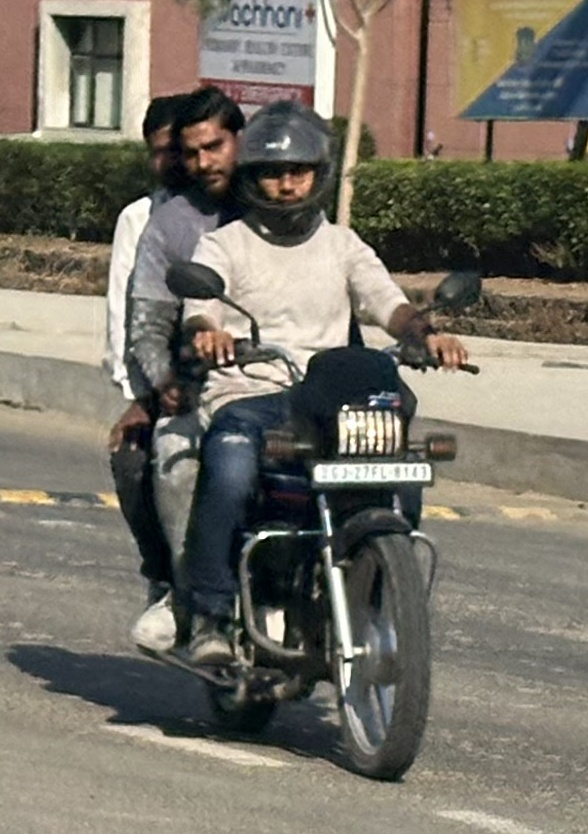BikeWithRider: (96, 62, 492, 794)
Helmet: (228, 100, 358, 246)
NoHelmet: (167, 89, 252, 203), (130, 89, 219, 181)
